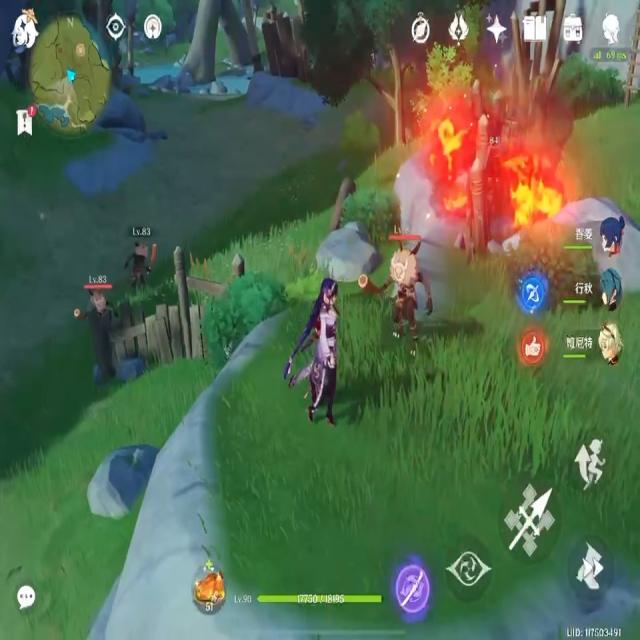genshin-hilichurls: (362, 220, 424, 346), (129, 225, 166, 310), (72, 268, 120, 333)
